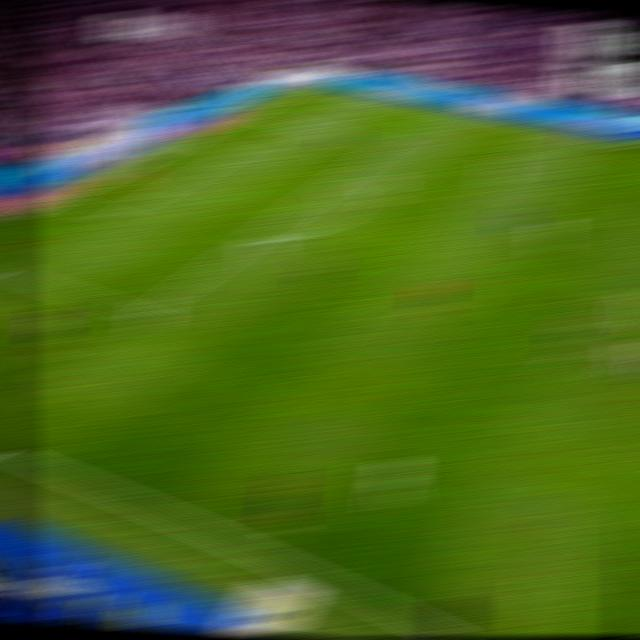bigarea_bottom_inner: (126, 303, 159, 325)
bigarea_top_inner: (375, 136, 404, 150)
bigarea_top_outter: (237, 106, 267, 117)
bottom_arc_area_intersection: (234, 234, 266, 249)
corner: (294, 81, 324, 89)
smallarea_bottom_inner: (99, 209, 128, 223)
smallarea_bottom_outter: (45, 192, 75, 205)
smallarea_top_inner: (223, 146, 251, 156)
top_arc_area_intersection: (320, 176, 348, 188)
